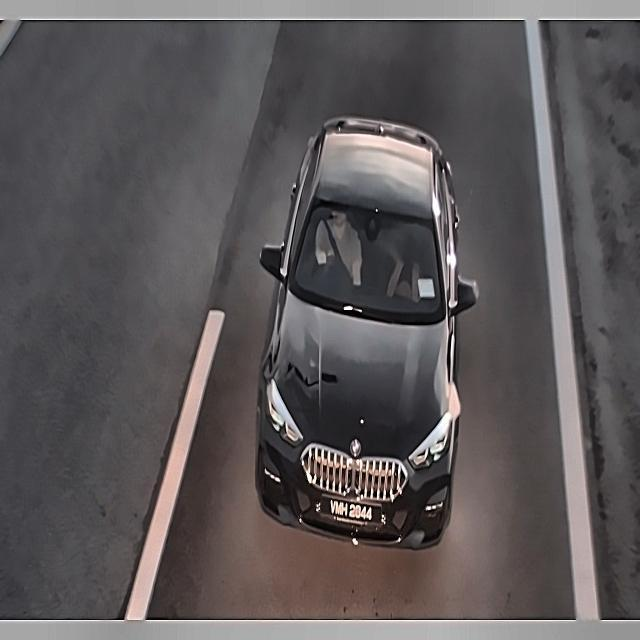car: (317, 492, 387, 529)
